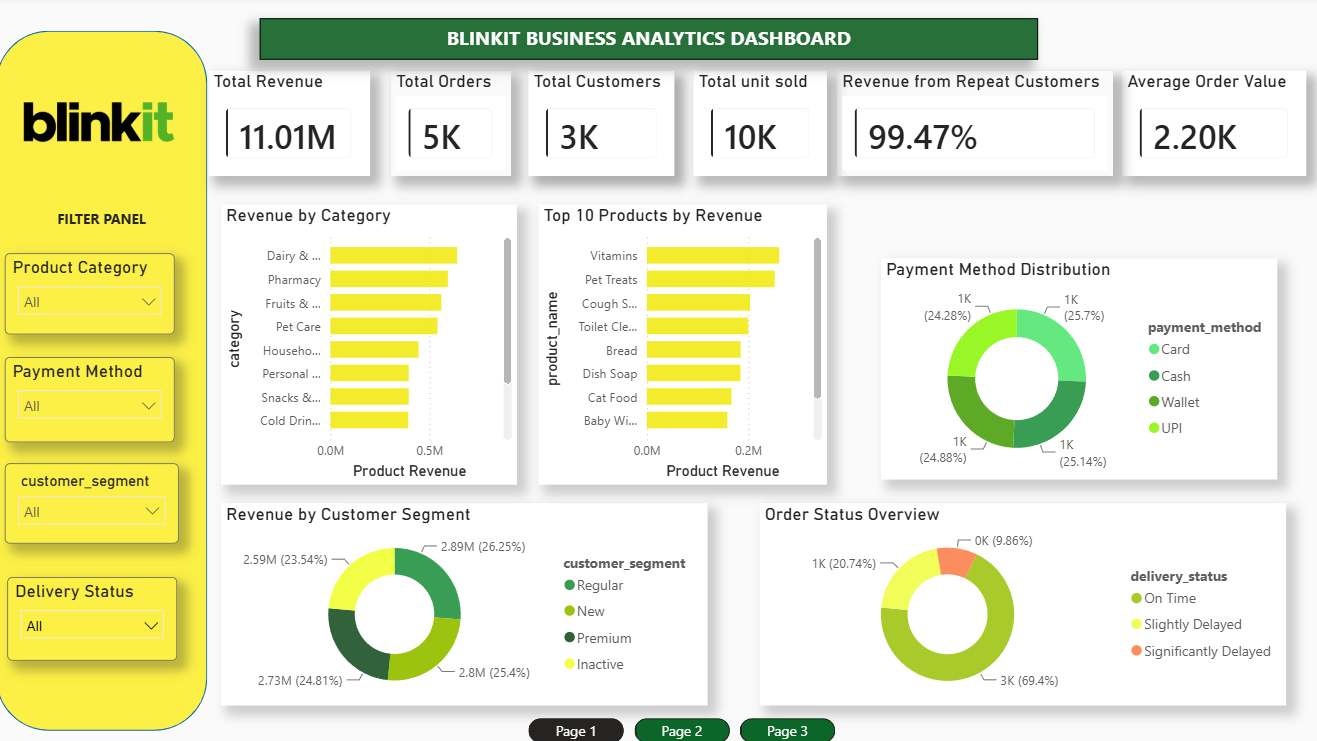

The page's visual inventory and layout, read from the dashboard file:
{"tool":"powerbi","page":{"name":"Page 1","canvas":[1280,720],"ordinal":0},"visuals":[{"type":"shape","box":[8.4,20.5,202.7,675.6],"z":0},{"type":"image","box":[33.8,60.3,150.8,97.7],"z":1000},{"type":"cardVisual","fields":{"Data":["blinkit_orders.Total Revenue"]},"box":[236.5,74.8,173.7,100.1],"z":2000},{"type":"cardVisual","fields":{"Data":["blinkit_orders.Total Orders"]},"box":[439.1,73.6,167.7,100.1],"z":3000},{"type":"cardVisual","fields":{"Data":["blinkit_customers.Total Customers"]},"box":[639.4,73.6,178.6,100.1],"z":4000},{"type":"cardVisual","fields":{"Data":["blinkit_orders.Average Order Value"]},"box":[844.5,72.4,212.3,100.1],"z":5000},{"type":"cardVisual","fields":{"Data":["blinkit_products.Total Units Sold"]},"box":[1082.2,72.4,177.3,100.1],"z":6000},{"type":"clusteredBarChart","title":"Revenue by Category","fields":{"Y":["blinkit_products.Product Revenue"],"Category":["blinkit_products.category"]},"box":[236.5,200.3,285.9,270.2],"z":7000},{"type":"clusteredBarChart","title":"Top 10 Products by Revenue","fields":{"Category":["blinkit_products.product_name"],"Y":["blinkit_products.Product Revenue"]},"box":[551.3,200.3,278.7,270.2],"z":8000},{"type":"donutChart","title":"Revenue by Customer Segment","fields":{"Category":["blinkit_customers.customer_segment"],"Y":["blinkit_orders.Total Revenue"]},"box":[236.5,488.6,469.3,195.4],"z":9000},{"type":"donutChart","title":"Payment Method Distribution","fields":{"Category":["blinkit_orders.payment_method"],"Y":["blinkit_orders.Total Orders"]},"box":[865,257,382.4,213.5],"z":10000},{"type":"donutChart","title":"Order Status Overview","fields":{"Category":["blinkit_delivery_performance.delivery_status"],"Y":["blinkit_orders.Total Orders"]},"box":[728.7,488.6,507.9,195.4],"z":11000},{"type":"slicer","fields":{"Values":["blinkit_customers.customer_segment"]},"box":[21.6,470.7,168.1,76.8],"z":12000},{"type":"textbox","box":[254.3,20,751.4,40],"z":13000},{"type":"slicer","title":"Product Category","fields":{"Values":["blinkit_products.category"]},"box":[18,246.2,164.5,78],"z":14000},{"type":"slicer","title":"Payment Method","fields":{"Values":["blinkit_orders.payment_method"]},"box":[20.4,355.4,164.5,82.9],"z":15000},{"type":"slicer","title":"Delivery Status","fields":{"Values":["blinkit_orders.delivery_status"]},"box":[21.6,575.2,164.5,81.7],"z":16000},{"type":"textbox","box":[48.8,200,107.1,36.9],"z":17000},{"type":"pageNavigator","box":[513.9,696.1,298,24.1],"z":18000}]}

Visuals, with their boxes in screenshot pixels (x1, y1, x2, y2), scaled from the page's 1280x720 canvas onto the 1317x741 screenshot:
shape: (9,21,217,716)
image: (35,62,190,163)
cardVisual - blinkit_orders.Total Revenue: (243,77,422,180)
cardVisual - blinkit_orders.Total Orders: (452,76,624,179)
cardVisual - blinkit_customers.Total Customers: (658,76,842,179)
cardVisual - blinkit_orders.Average Order Value: (869,75,1087,178)
cardVisual - blinkit_products.Total Units Sold: (1113,75,1296,178)
"Revenue by Category" clusteredBarChart: (243,206,538,484)
"Top 10 Products by Revenue" clusteredBarChart: (567,206,854,484)
"Revenue by Customer Segment" donutChart: (243,503,726,704)
"Payment Method Distribution" donutChart: (890,264,1283,484)
"Order Status Overview" donutChart: (750,503,1272,704)
slicer - blinkit_customers.customer_segment: (22,484,195,563)
textbox: (262,21,1035,62)
"Product Category" slicer: (19,253,188,334)
"Payment Method" slicer: (21,366,190,451)
"Delivery Status" slicer: (22,592,191,676)
textbox: (50,206,160,244)
pageNavigator: (529,716,835,740)
